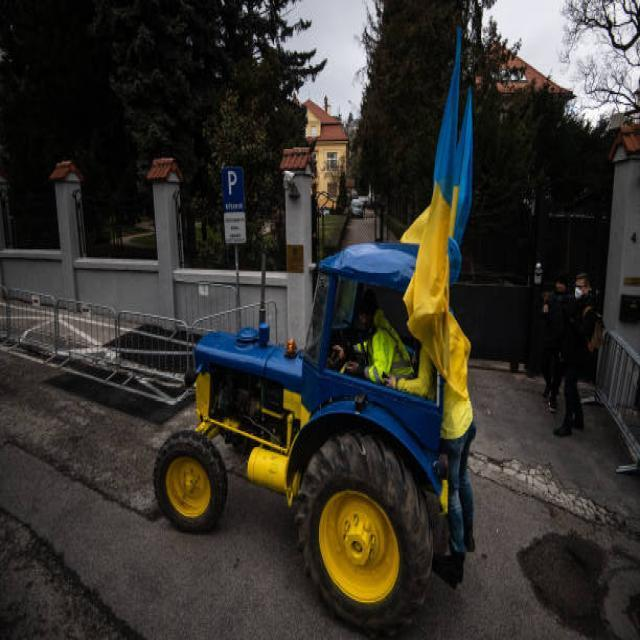Tratores - v5 YOLO V8L 2024-11-13: (144, 235, 456, 632)
